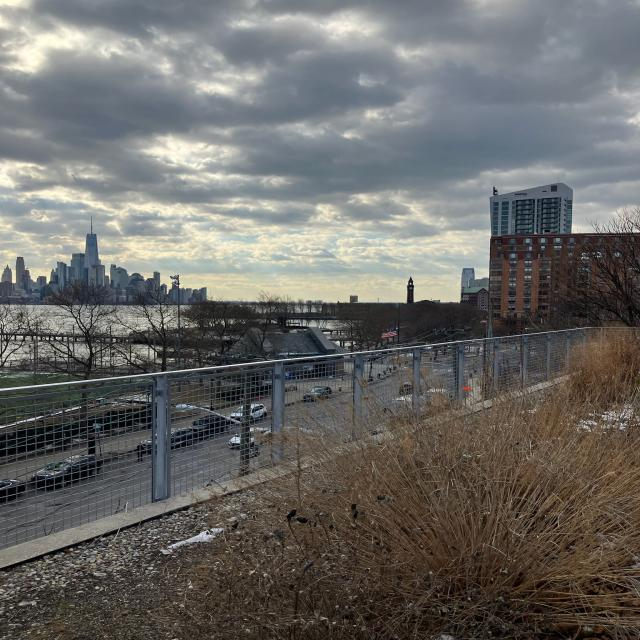WTC: (86, 213, 100, 267)
